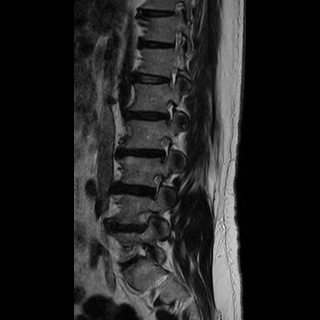RFS1: (142, 170, 168, 204), (150, 131, 175, 165), (157, 96, 181, 128)
